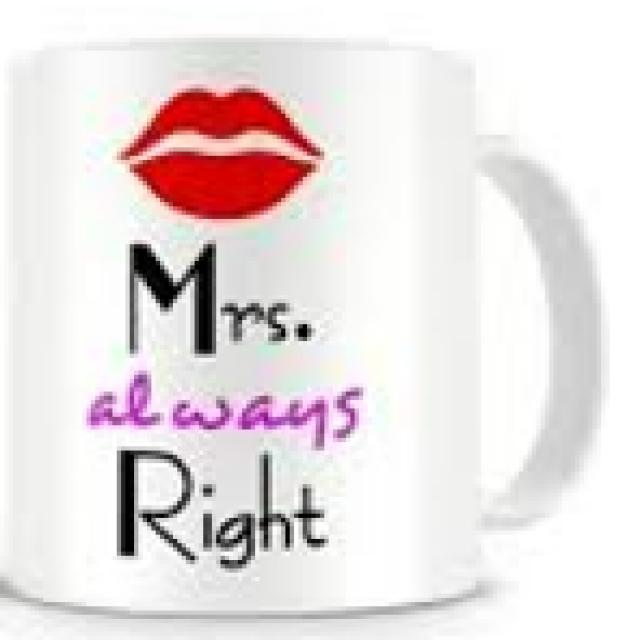taza: (1, 36, 601, 614)
